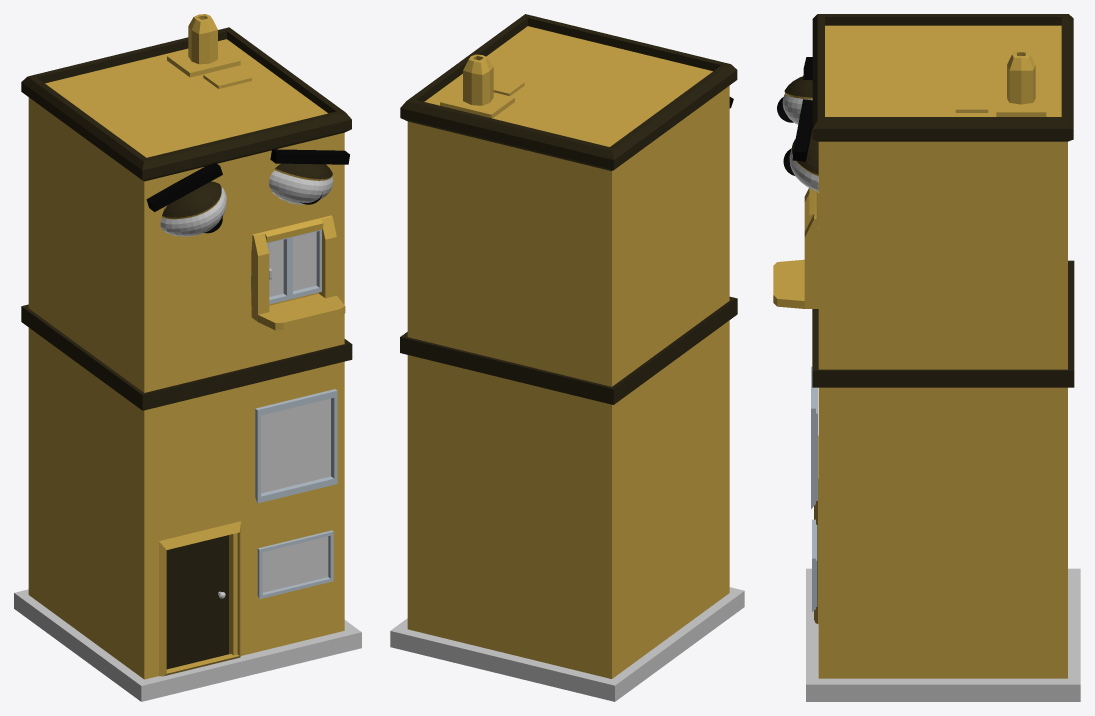
File: building_lg_scared.obj
3 renders of one model, left to right at view 1: azimuth 30°, elevation 25°; view 2: azimuth 150°, elevation 25°; view 3: azimuth 270°, elevation 25°, orthographic. The views are drawn at different scales.
Visible parts, largest first — view 1: Building_lg_scared; view 2: Building_lg_scared; view 3: Building_lg_scared.
Part boxes in pixels (bbox=[...]): Building_lg_scared: bbox=[14, 14, 361, 701]; Building_lg_scared: bbox=[390, 14, 744, 701]; Building_lg_scared: bbox=[773, 14, 1080, 701].
Bounding box in the file's own units: 2.2 × 5.46 × 2.46.
